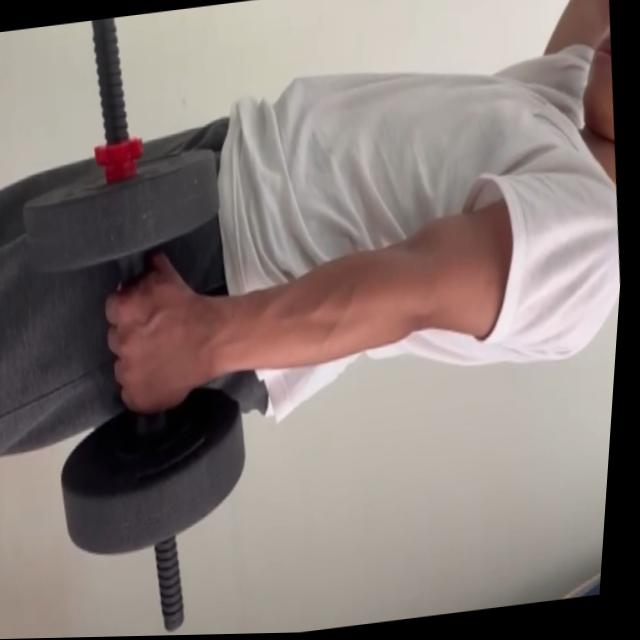hammer: (0, 137, 276, 565)
